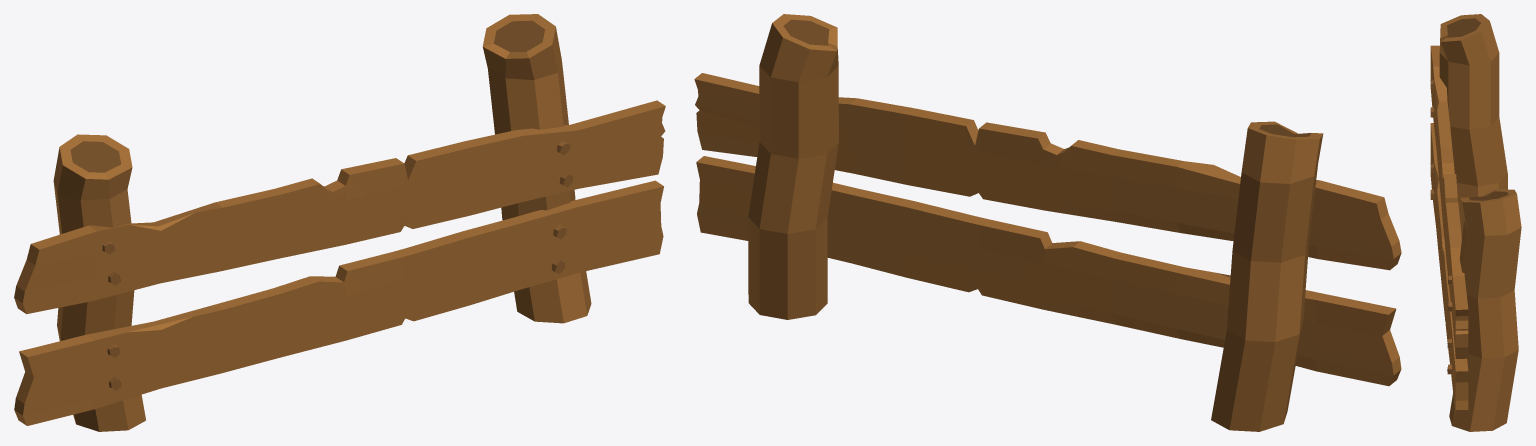
Rendered from Pagar1.fbx.
3 renders of one model, left to right at view 1: azimuth 30°, elevation 25°; view 2: azimuth 150°, elevation 25°; view 3: azimuth 270°, elevation 25°, orthographic. The views are drawn at different scales.
Visible parts, largest first — view 1: Circle.001; view 2: Circle.001; view 3: Circle.001.
Boxes of the visible parts, left/top/right/bottom form: Circle.001: left=14, top=14, right=665, bottom=431; Circle.001: left=694, top=14, right=1401, bottom=431; Circle.001: left=1430, top=14, right=1521, bottom=431.
Size of the model in its own units: 322 by 132 by 49.4.
